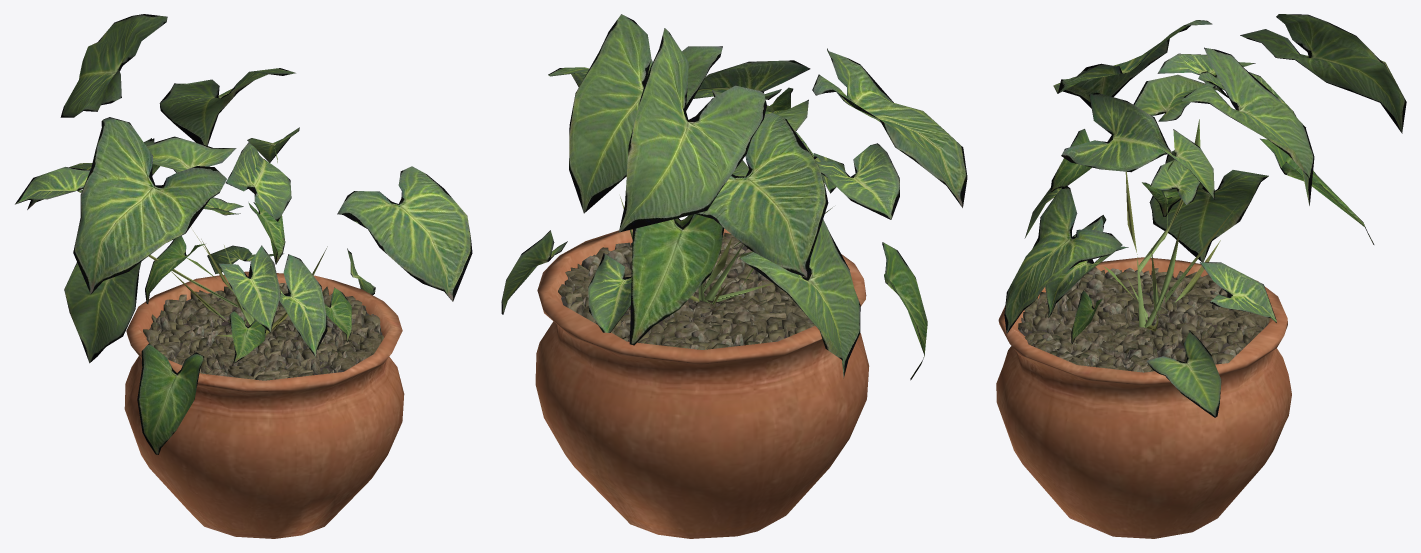
The model's file is potted_plant_02_1k.gltf.
3 renders of one model, left to right at view 1: azimuth 30°, elevation 25°; view 2: azimuth 150°, elevation 25°; view 3: azimuth 270°, elevation 25°, orthographic. The views are drawn at different scales.
Parts seen in each view (by area): view 1: potted_plant_02_leaves, potted_plant_02_pot, potted_plant_02_dirt; view 2: potted_plant_02_leaves, potted_plant_02_pot, potted_plant_02_dirt; view 3: potted_plant_02_leaves, potted_plant_02_pot, potted_plant_02_dirt.
Part boxes in pixels (x1=…): potted_plant_02_leaves: x1=15, y1=14, x2=472, y2=454; potted_plant_02_pot: x1=124, y1=271, x2=404, y2=538; potted_plant_02_dirt: x1=143, y1=283, x2=383, y2=380; potted_plant_02_leaves: x1=501, y1=14, x2=967, y2=380; potted_plant_02_pot: x1=535, y1=228, x2=869, y2=538; potted_plant_02_dirt: x1=558, y1=232, x2=814, y2=349; potted_plant_02_leaves: x1=1004, y1=14, x2=1406, y2=417; potted_plant_02_pot: x1=996, y1=257, x2=1291, y2=538; potted_plant_02_dirt: x1=1018, y1=267, x2=1269, y2=372.
Bounding box in the file's own units: 0.7009 × 0.8395 × 0.6561.
Materials: 2 (2 with a texture image).
